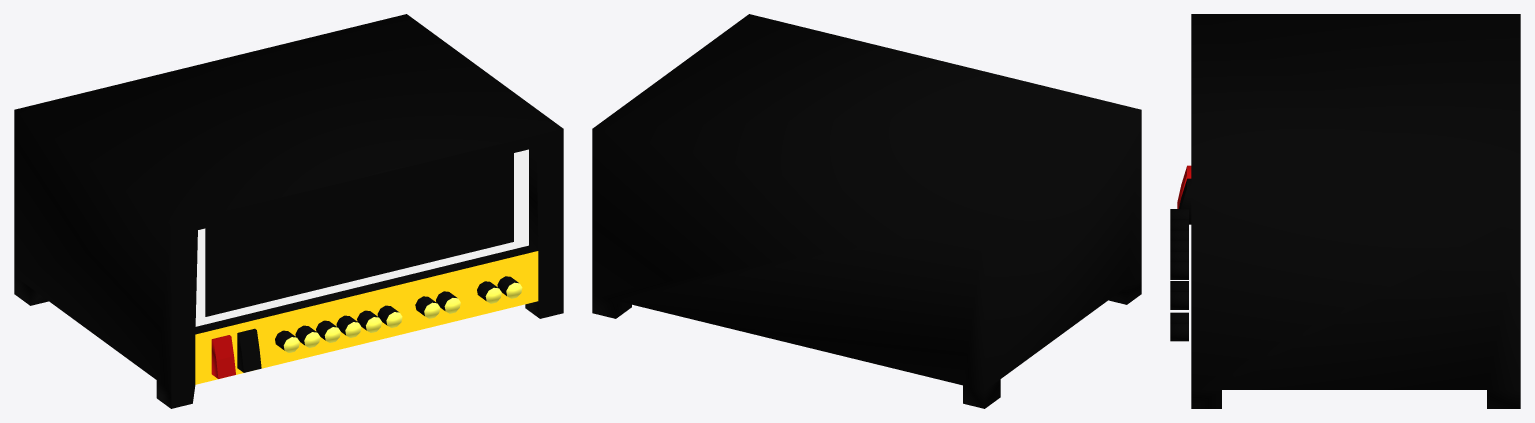
The model's file is SpeakerAmplifier.glb.
The picture shows the model from 3 angles, left to right: view 1: azimuth 30°, elevation 25°; view 2: azimuth 150°, elevation 25°; view 3: azimuth 270°, elevation 25°; orthographic projection. The views are drawn at different scales.
Parts seen in each view (by area): view 1: SpeakerAmplifier; view 2: SpeakerAmplifier; view 3: SpeakerAmplifier.
Boxes of the visible parts, x1,y1,x2,y2 form: SpeakerAmplifier: (14, 14, 563, 408); SpeakerAmplifier: (592, 14, 1141, 408); SpeakerAmplifier: (1170, 14, 1520, 408).
Size of the model in its own units: 0.8222 by 0.3694 by 0.605.
Materials: 2 (2 with a texture image).
